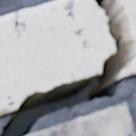broken_brick: (0, 0, 114, 115), (27, 103, 134, 135), (120, 0, 135, 46), (121, 58, 135, 77)
crack: (0, 0, 135, 135)
